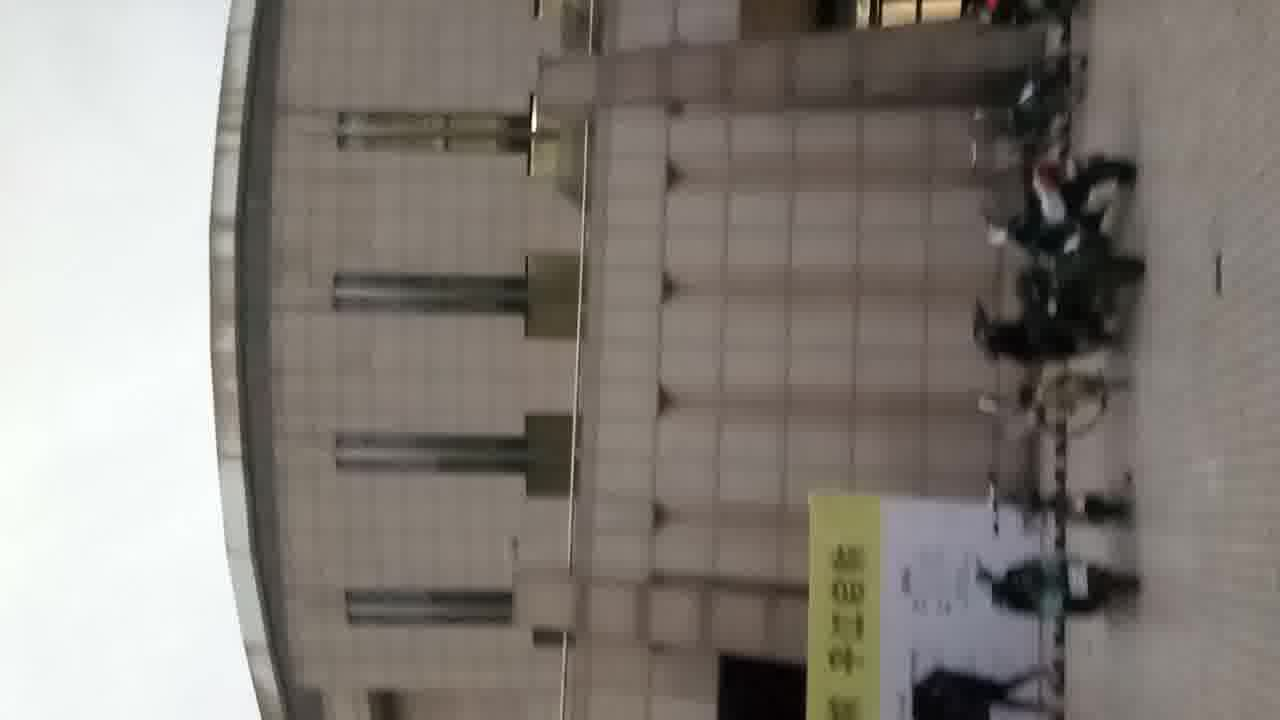zhongtiww: (191, 8, 1057, 720)
